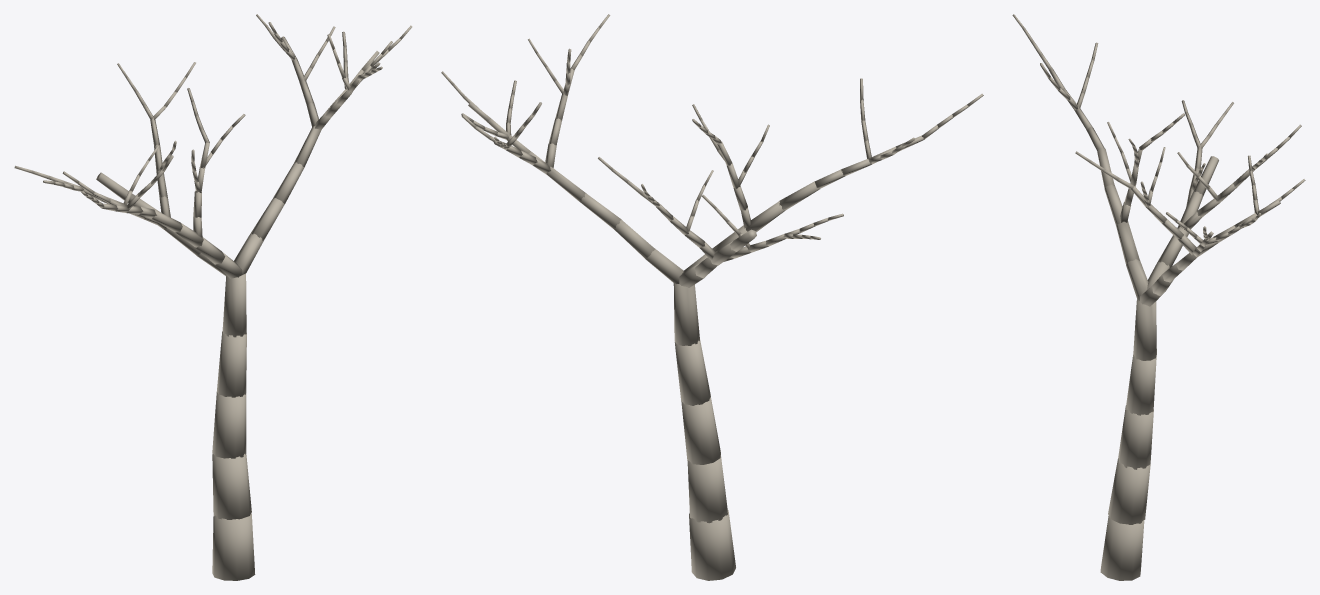
The model's file is tree_dead_a.glb.
3 views of the same model, side by side, from view 1: azimuth 30°, elevation 25°; view 2: azimuth 150°, elevation 25°; view 3: azimuth 270°, elevation 25° (orthographic). The views are drawn at different scales.
Parts seen in each view (by area): view 1: tree_dead_a; view 2: tree_dead_a; view 3: tree_dead_a.
Part boxes in pixels (box(x1,y1,x2,y2)): tree_dead_a: box(14, 14, 412, 580); tree_dead_a: box(441, 14, 983, 580); tree_dead_a: box(1012, 14, 1305, 580).
Size of the model in its own units: 6.86 by 7.58 by 4.18.
